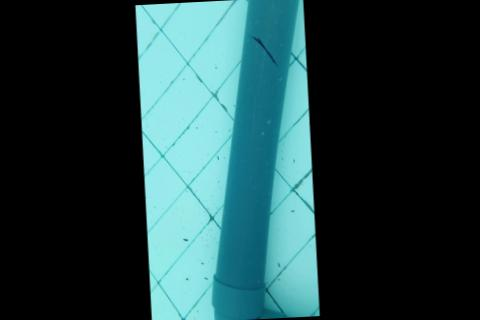keretakan: (249, 33, 277, 68)
